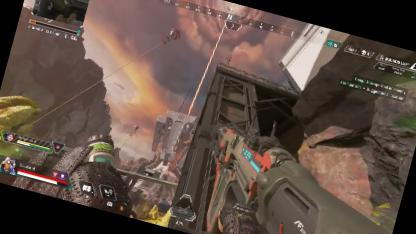Target: (224, 54, 232, 65)
